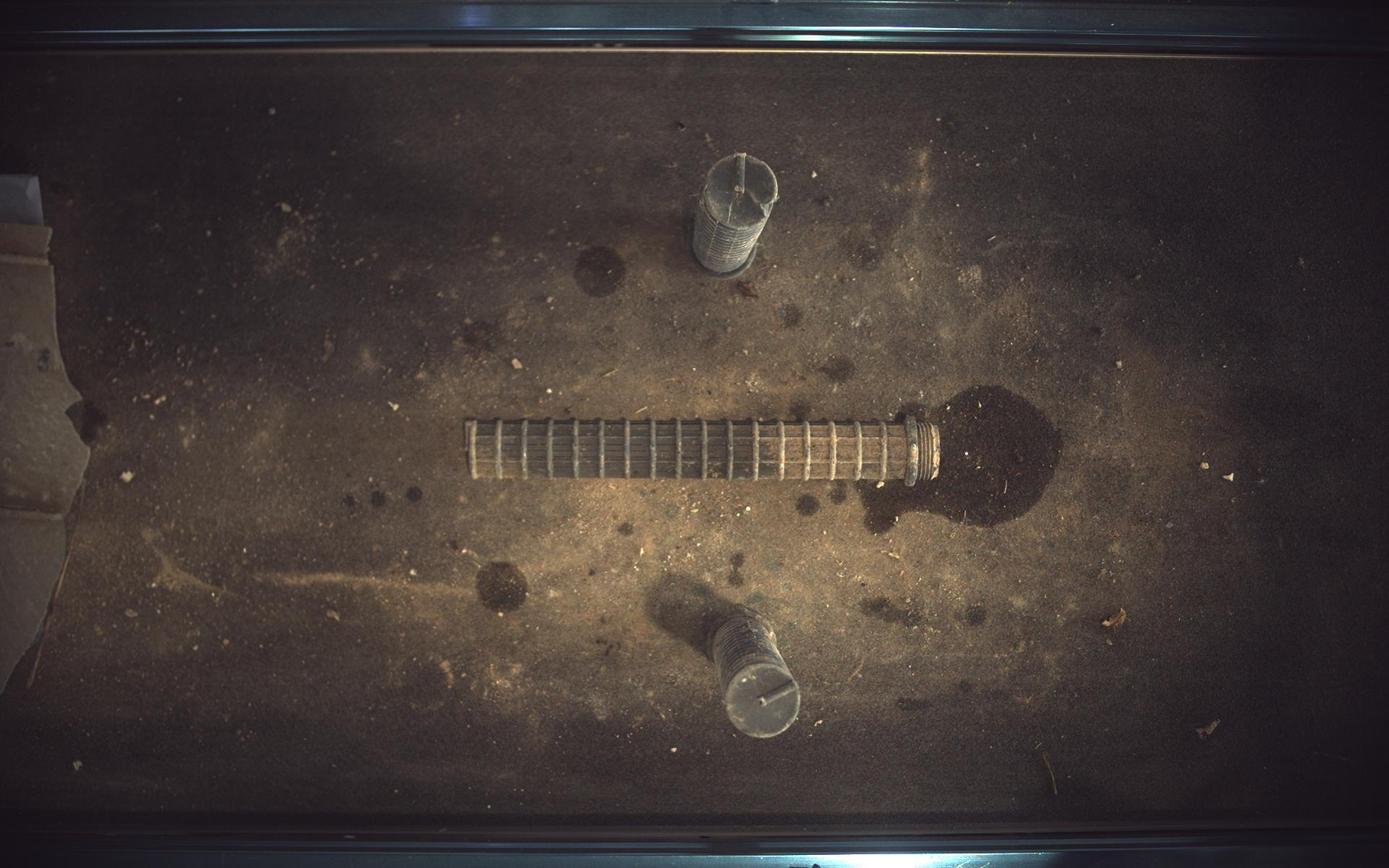plastic: (465, 417, 943, 486), (711, 613, 802, 739), (692, 151, 779, 277)
